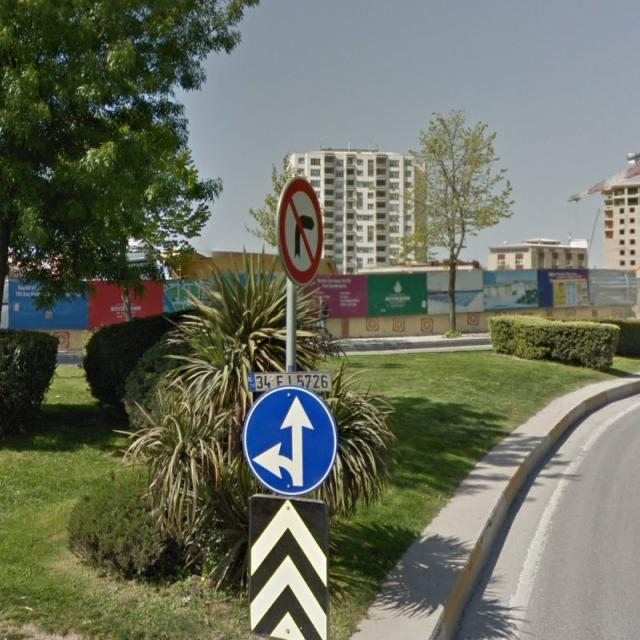ilerisol: (242, 387, 338, 495)
sagadonulmez: (278, 175, 326, 285)
